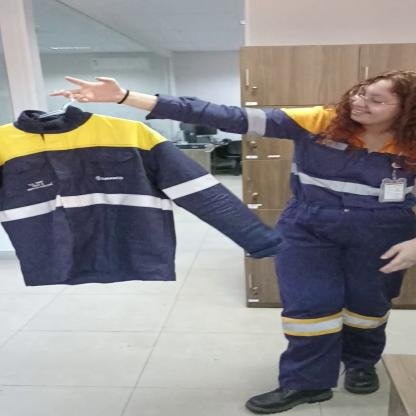C_eletrica: (1, 110, 217, 284)
Operacional: (282, 108, 416, 212)
